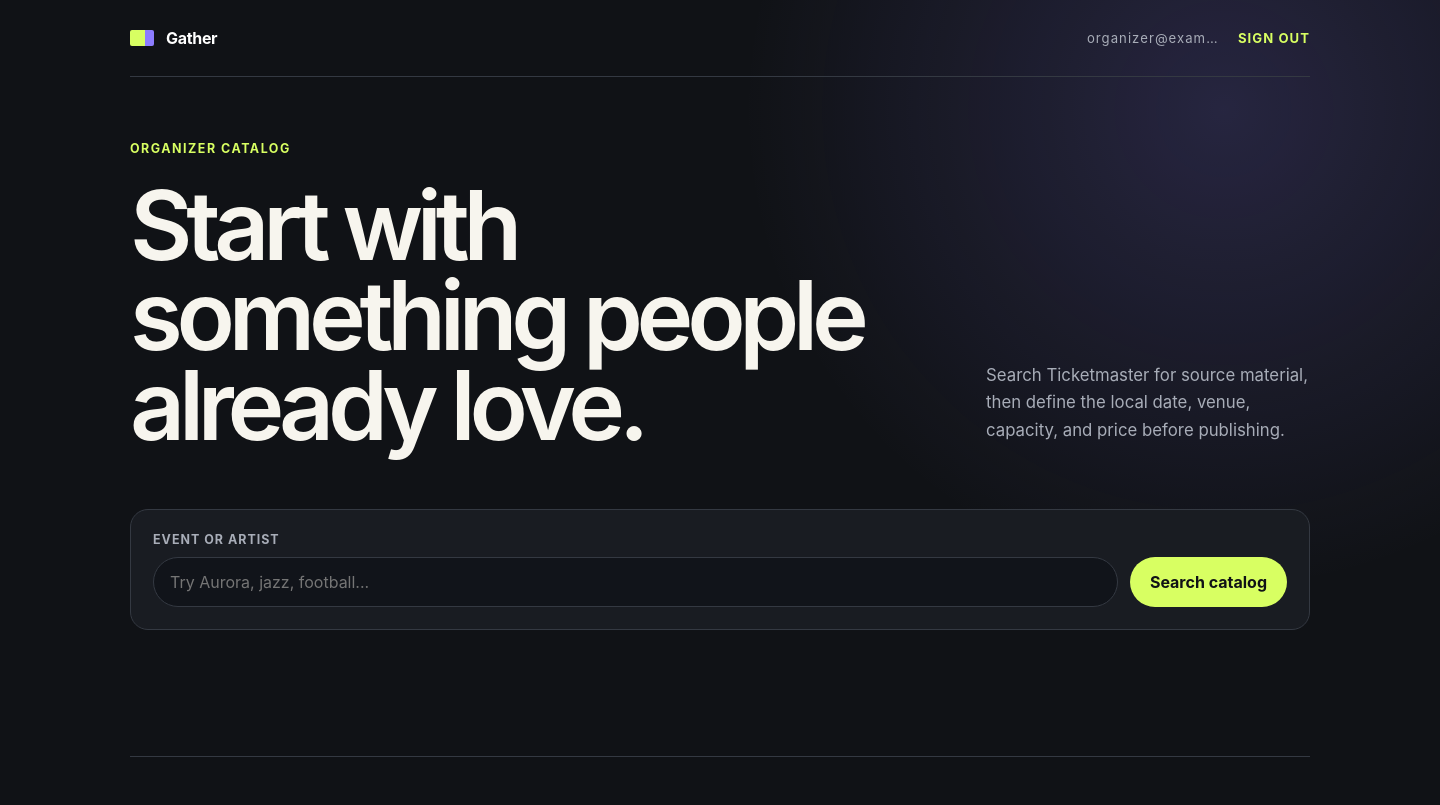
OrganizerCatalogPage › shows the stable backend error without provider details
The image size is (1440, 805).
Expected: the text "organizer@example.com" is shown, top-left (1087, 30), bottom-right (1220, 46)
Type "Aurora" into the search field labelled "Event or artist".
click(635, 582); type("Aurora")  # box top-left (153, 557), bottom-right (1118, 607)
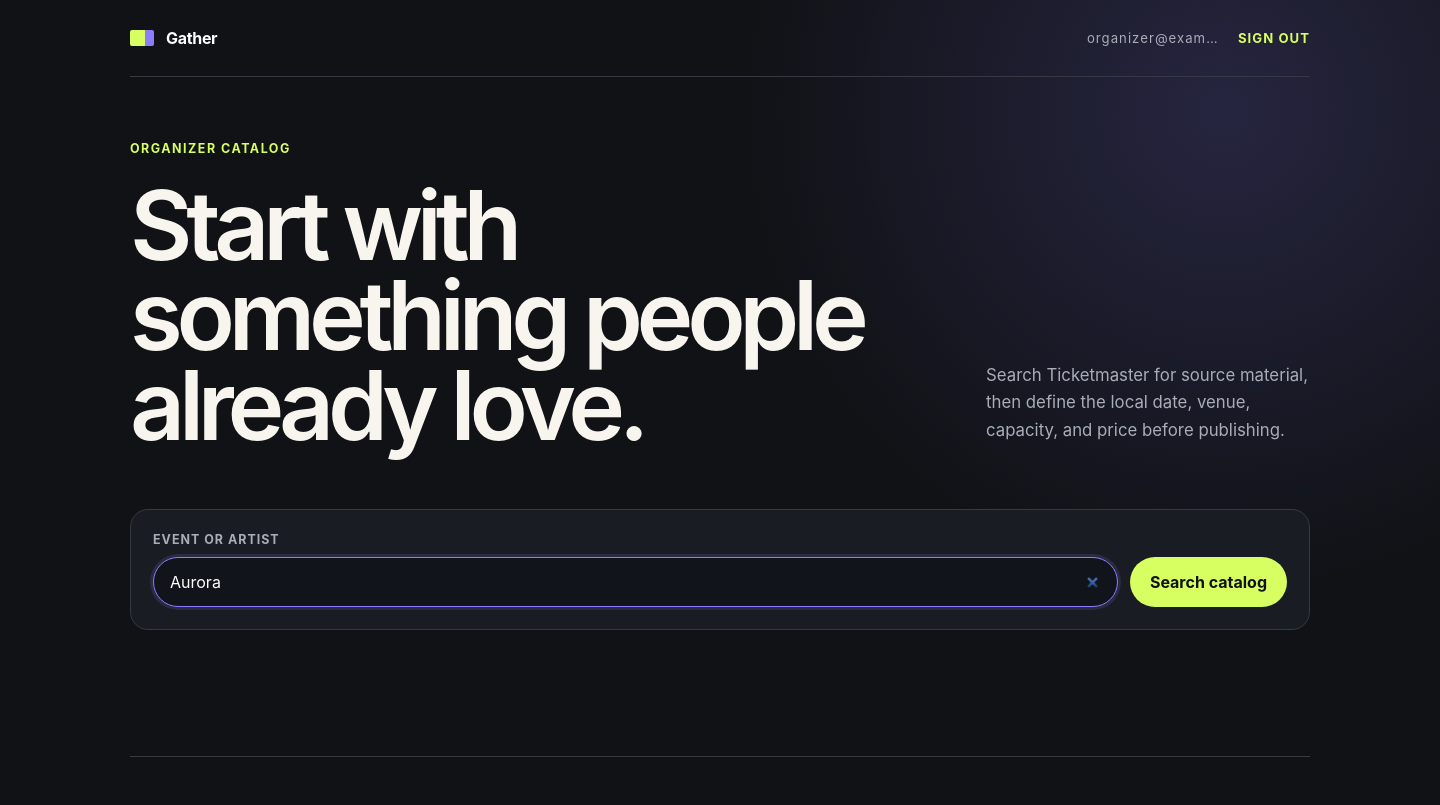
Click the button "Search catalog".
click(1208, 582)  # box top-left (1130, 557), bottom-right (1287, 607)
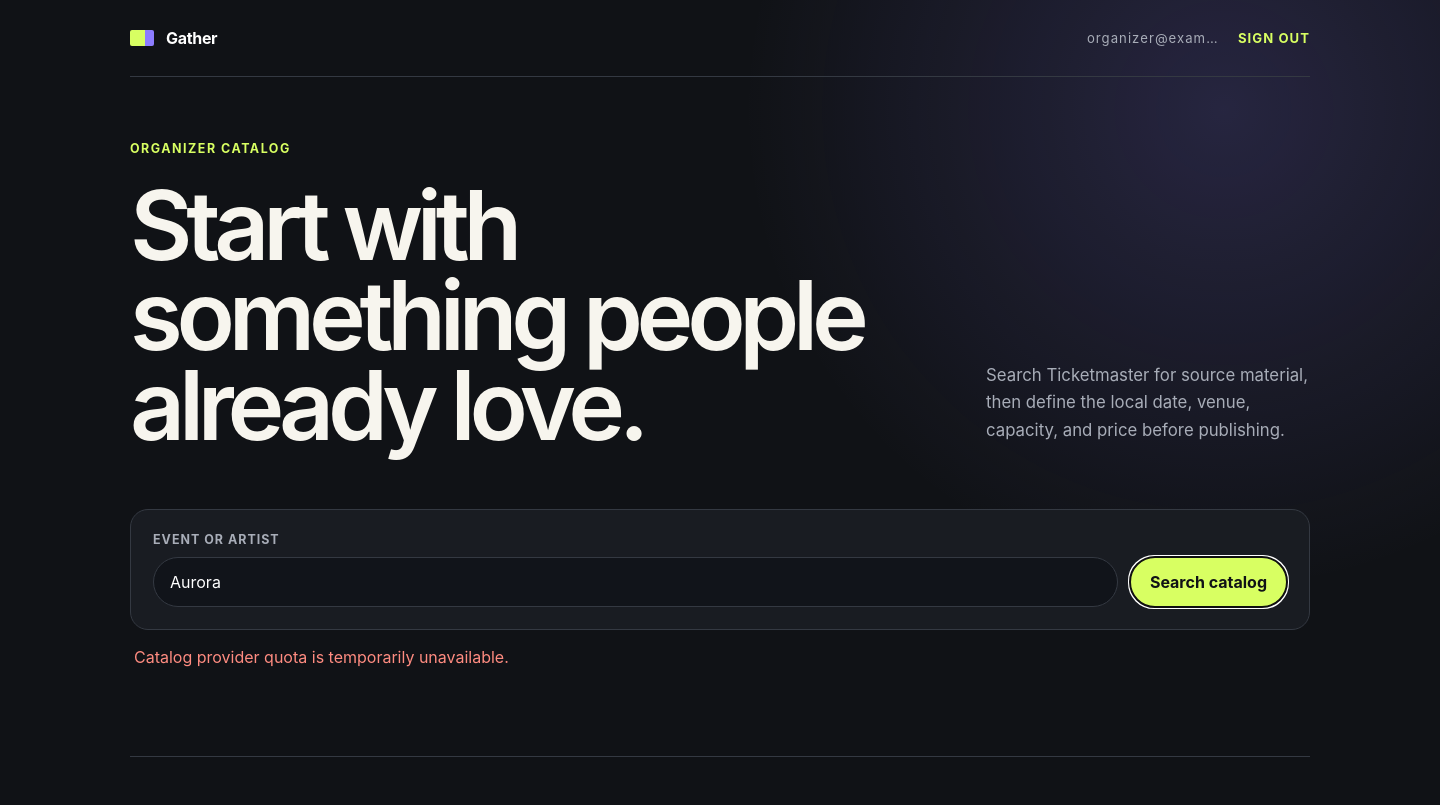
Result: the text "Catalog provider quota is temporarily unavailable." is shown at top-left (134, 647), bottom-right (509, 667)
